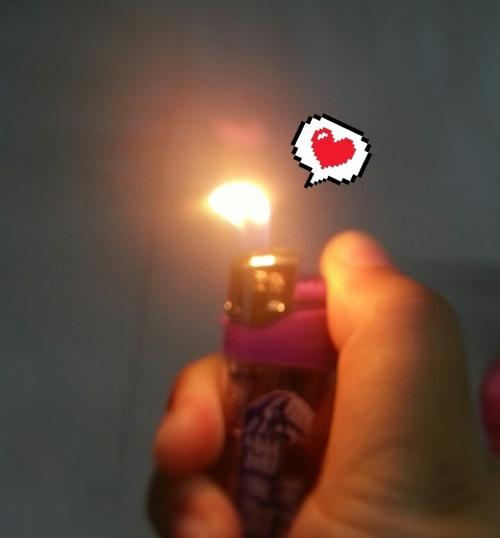fire: (207, 170, 287, 274)
